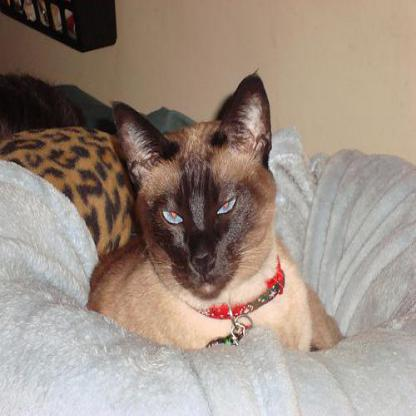cat: (87, 70, 344, 350)
